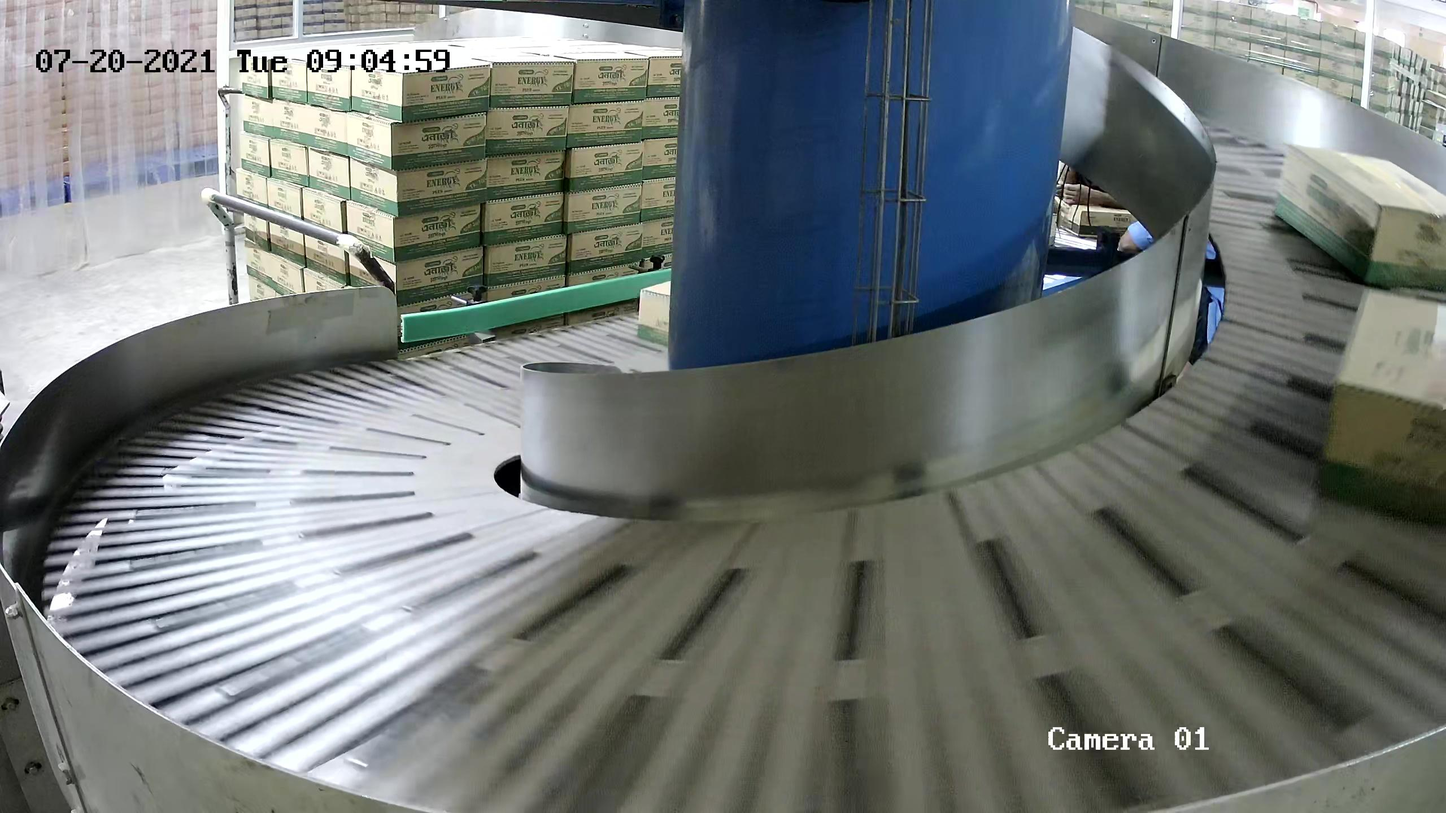Box: (1318, 285, 1446, 515), (1272, 142, 1446, 287), (637, 280, 671, 346)
